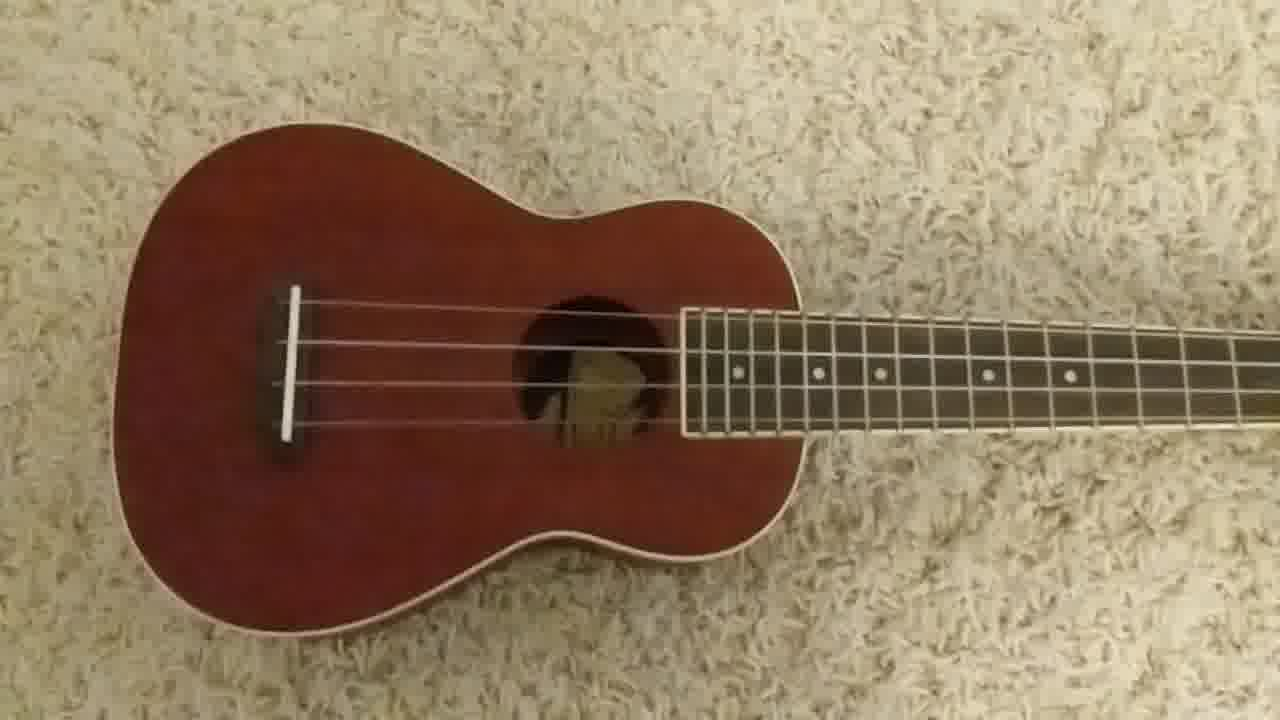Body: (106, 117, 813, 647)
Bridge: (255, 274, 321, 455)
